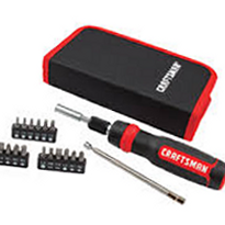Screwdriver: (54, 99, 225, 191)
